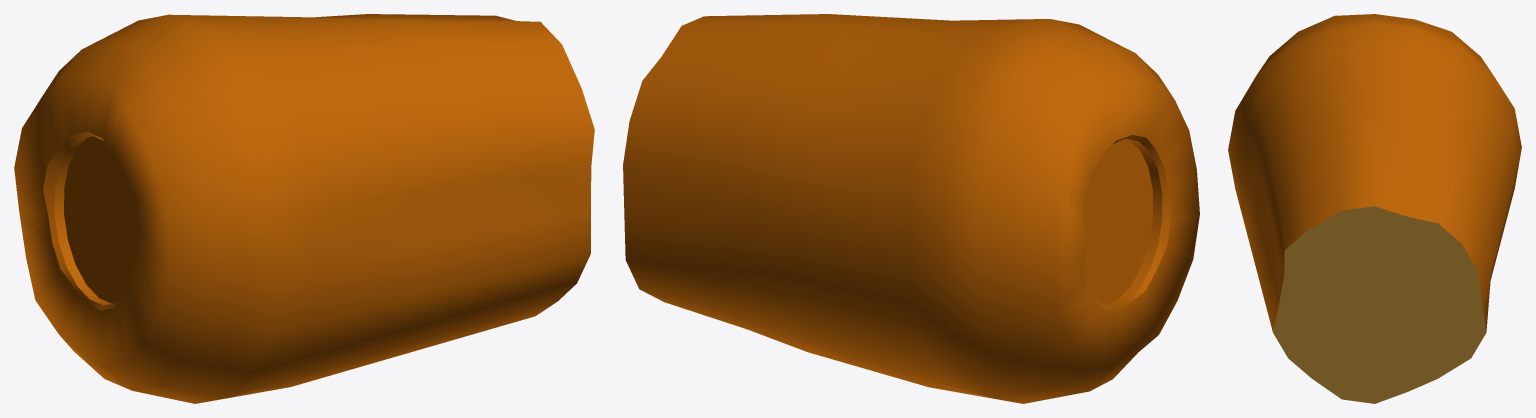
The model's file is mesh_Carrot_Stage08.fbx.
3 views of the same model, side by side, from view 1: azimuth 30°, elevation 25°; view 2: azimuth 150°, elevation 25°; view 3: azimuth 270°, elevation 25° (orthographic). The views are drawn at different scales.
Visible parts, largest first — view 1: mesh_Carrot_Stage08; view 2: mesh_Carrot_Stage08; view 3: mesh_Carrot_Stage08.
Part boxes in pixels (x1,y1,x2,y2): mesh_Carrot_Stage08: [14, 14, 594, 403]; mesh_Carrot_Stage08: [623, 14, 1199, 403]; mesh_Carrot_Stage08: [1228, 14, 1521, 403].
Bounding box in the file's own units: 0.0693 × 0.0519 × 0.051.
